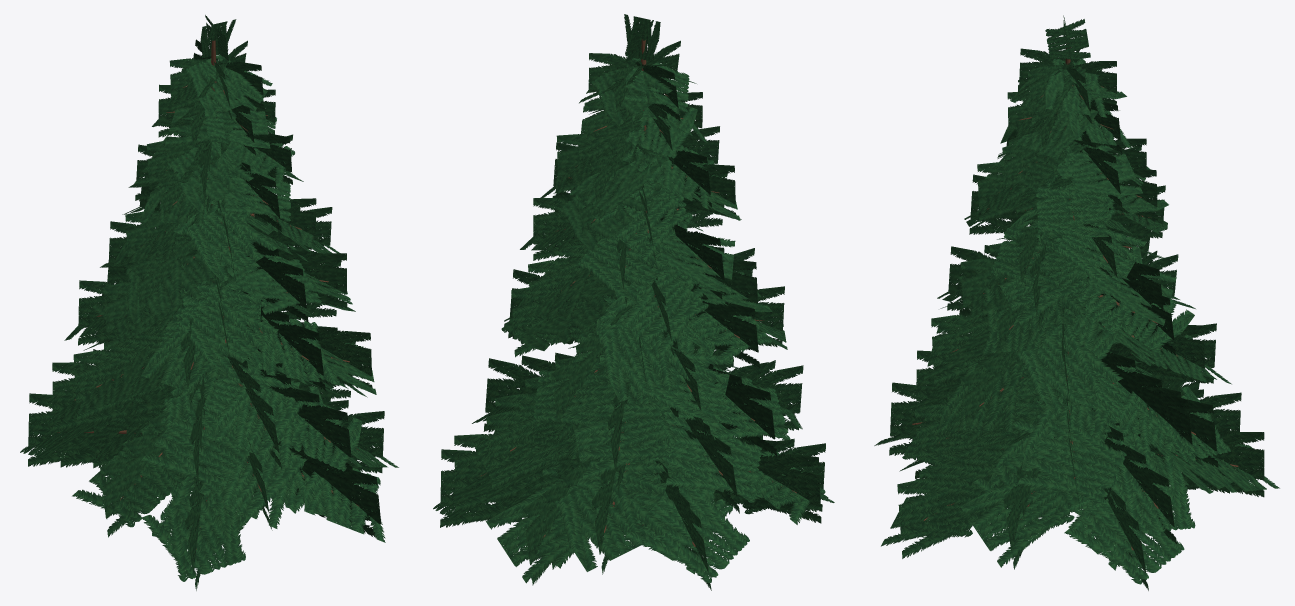
The model's file is spruce_2.glb.
The picture shows the model from 3 angles, left to right: view 1: azimuth 30°, elevation 25°; view 2: azimuth 150°, elevation 25°; view 3: azimuth 270°, elevation 25°; orthographic projection. The views are drawn at different scales.
Visible parts, largest first — view 1: spruce_2Leaves, spruce_2Wood; view 2: spruce_2Leaves; view 3: spruce_2Leaves.
Boxes of the visible parts, bbox=[...] form: spruce_2Leaves: bbox=[20, 15, 398, 590]; spruce_2Wood: bbox=[57, 40, 358, 549]; spruce_2Leaves: bbox=[433, 14, 834, 590]; spruce_2Leaves: bbox=[874, 15, 1279, 590].
Size of what is drawn, in the model's own units: 4.56 by 6.86 by 4.99.
2 materials, 2 textured.
